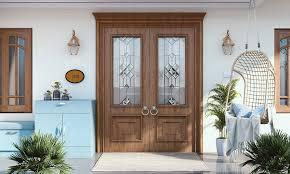chair: (230, 53, 276, 163)
door: (101, 20, 151, 151), (150, 22, 196, 150)
light: (61, 28, 82, 59), (216, 30, 239, 57)
table: (34, 99, 96, 159)
